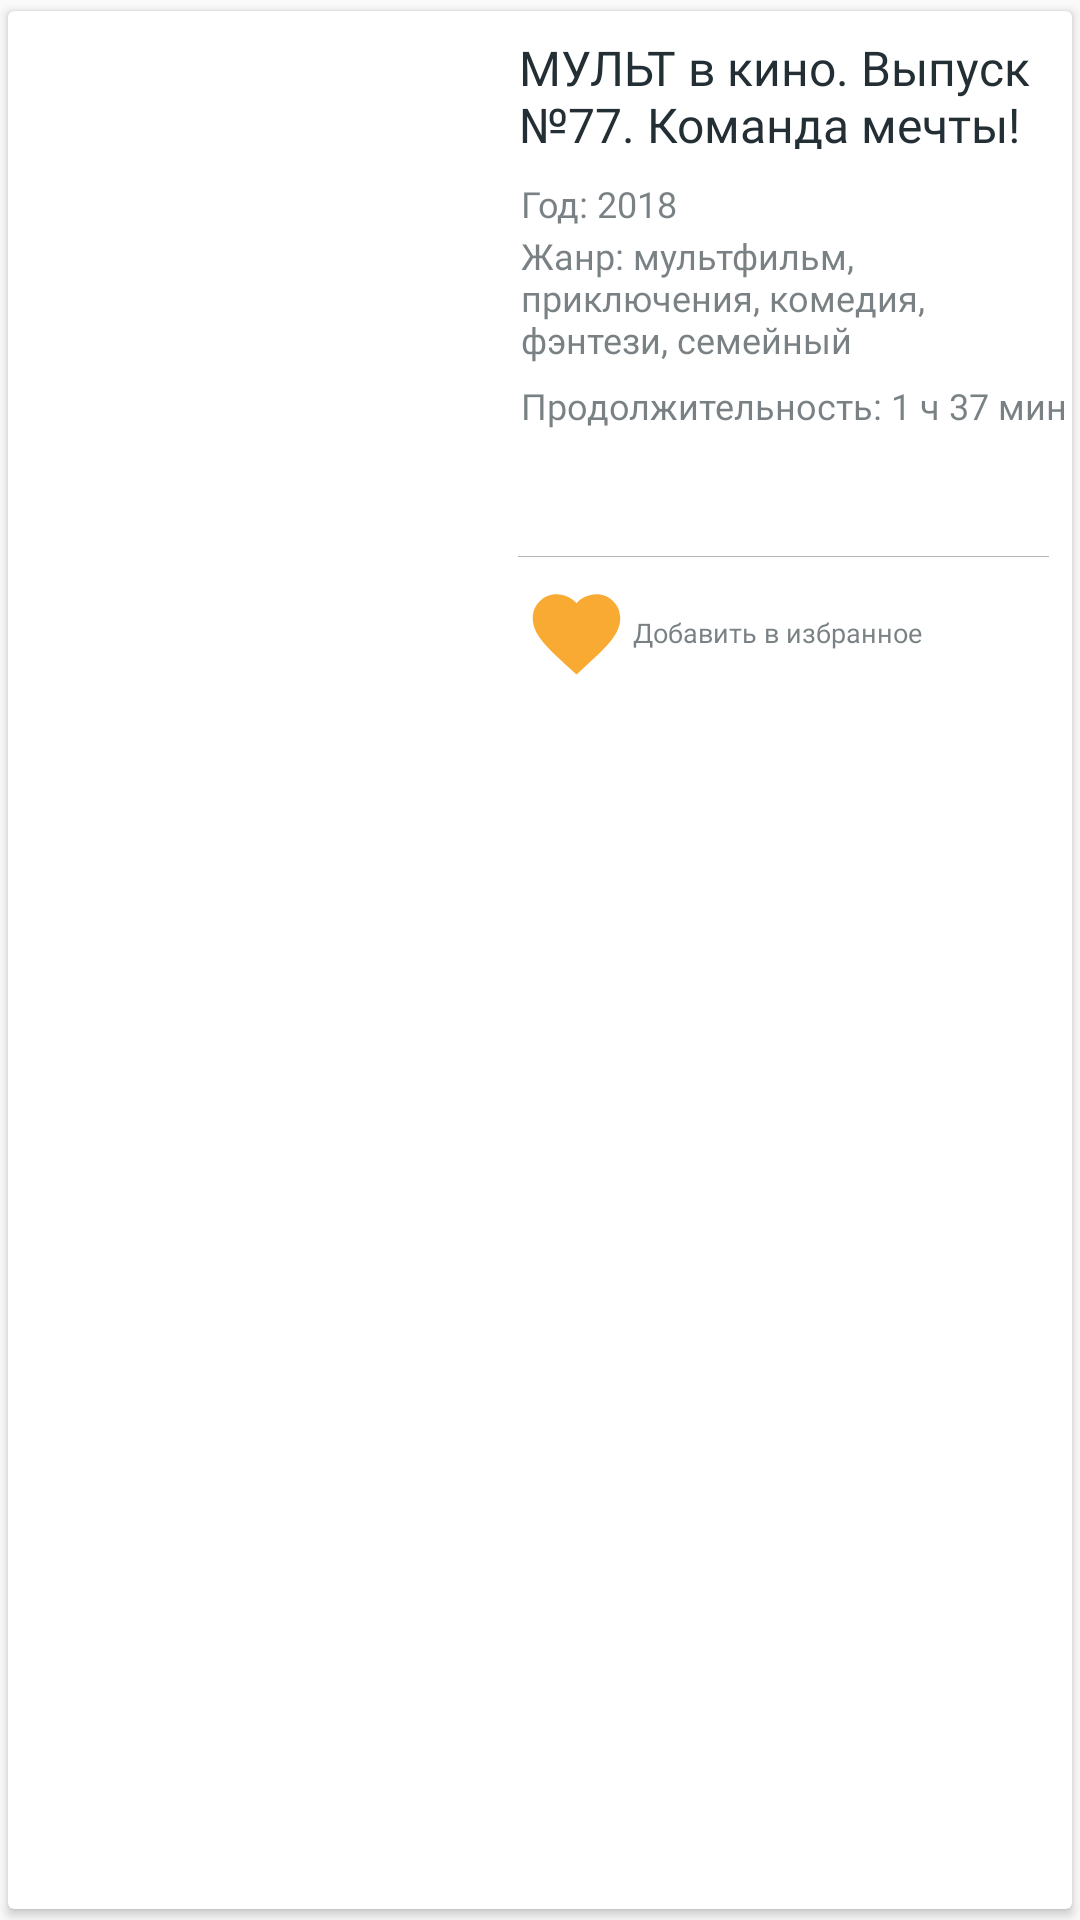

Where to tap for icons on this 1080x1920 app screen, as point (x, y):
heart: point (576, 634)
